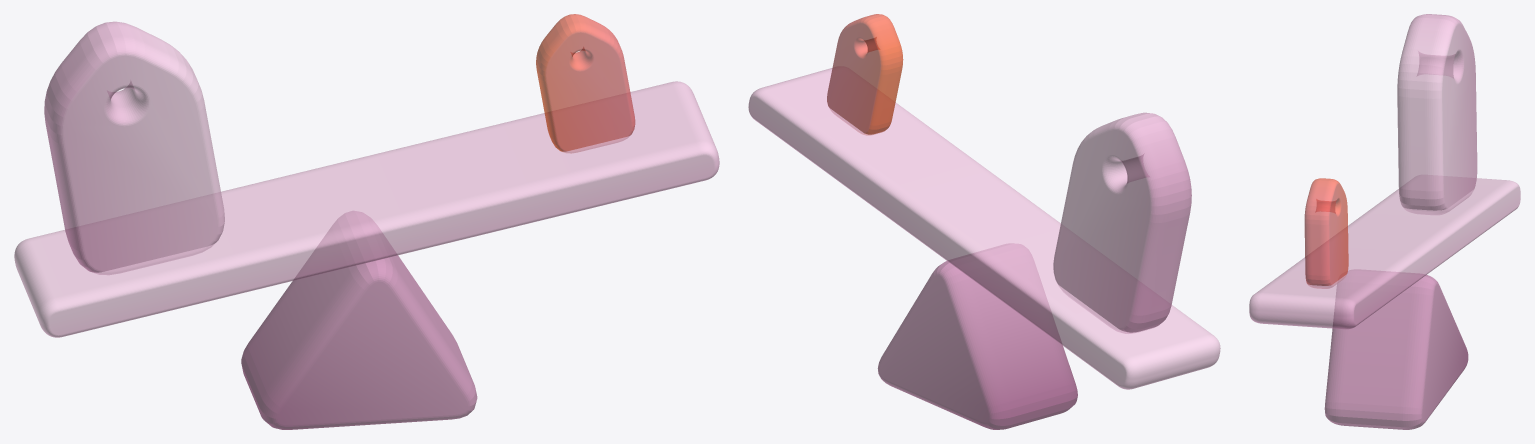
File: price-seesaw.glb
3 views of the same model, side by side, from view 1: azimuth 30°, elevation 25°; view 2: azimuth 150°, elevation 25°; view 3: azimuth 270°, elevation 25° (orthographic). The views are drawn at different scales.
Visible parts, largest first — view 1: plank, tag_high_price, fulcrum, tag_low_price; view 2: plank, fulcrum, tag_high_price, tag_low_price; view 3: plank, fulcrum, tag_high_price, tag_low_price.
Part boxes in pixels (x1=…): plank: x1=14, y1=81, x2=719, y2=337; tag_high_price: x1=44, y1=21, x2=224, y2=274; fulcrum: x1=241, y1=211, x2=477, y2=429; tag_low_price: x1=536, y1=14, x2=635, y2=152; plank: x1=748, y1=67, x2=1220, y2=389; fulcrum: x1=877, y1=244, x2=1077, y2=429; tag_high_price: x1=1053, y1=112, x2=1191, y2=333; tag_low_price: x1=827, y1=14, x2=903, y2=134; plank: x1=1249, y1=175, x2=1520, y2=329; fulcrum: x1=1324, y1=270, x2=1468, y2=429; tag_high_price: x1=1397, y1=14, x2=1477, y2=214; tag_low_price: x1=1304, y1=178, x2=1348, y2=288.
Bounding box in the file's own units: 1.32 × 0.8539 × 0.6859.
